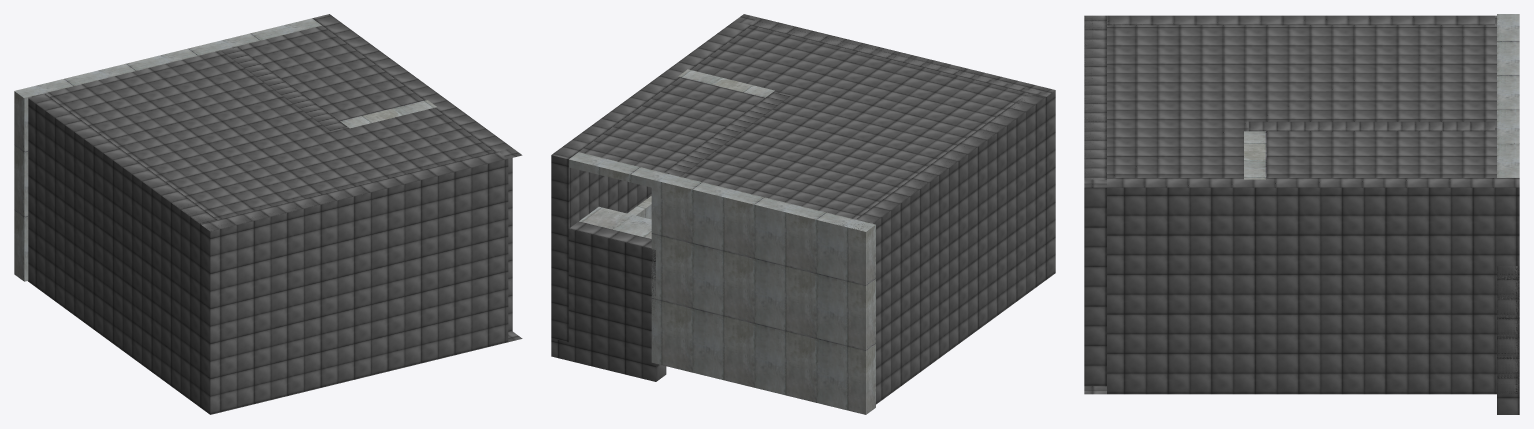
File: Level_31.fbx
The picture shows the model from 3 angles, left to right: view 1: azimuth 30°, elevation 25°; view 2: azimuth 150°, elevation 25°; view 3: azimuth 270°, elevation 25°; orthographic projection. The views are drawn at different scales.
Parts seen in each view (by area): view 1: NoTeleport.020, Wall.021; view 2: NoTeleport.020, Wall.021; view 3: NoTeleport.020, Wall.021.
Boxes of the visible parts, <box> form: NoTeleport.020: <box>28,14,522,414</box>; Wall.021: <box>14,18,436,281</box>; NoTeleport.020: <box>551,14,1055,404</box>; Wall.021: <box>568,69,875,414</box>; NoTeleport.020: <box>1084,15,1519,414</box>; Wall.021: <box>1244,14,1519,179</box>.
Size of the model in its own units: 18 by 19.1 by 11.
